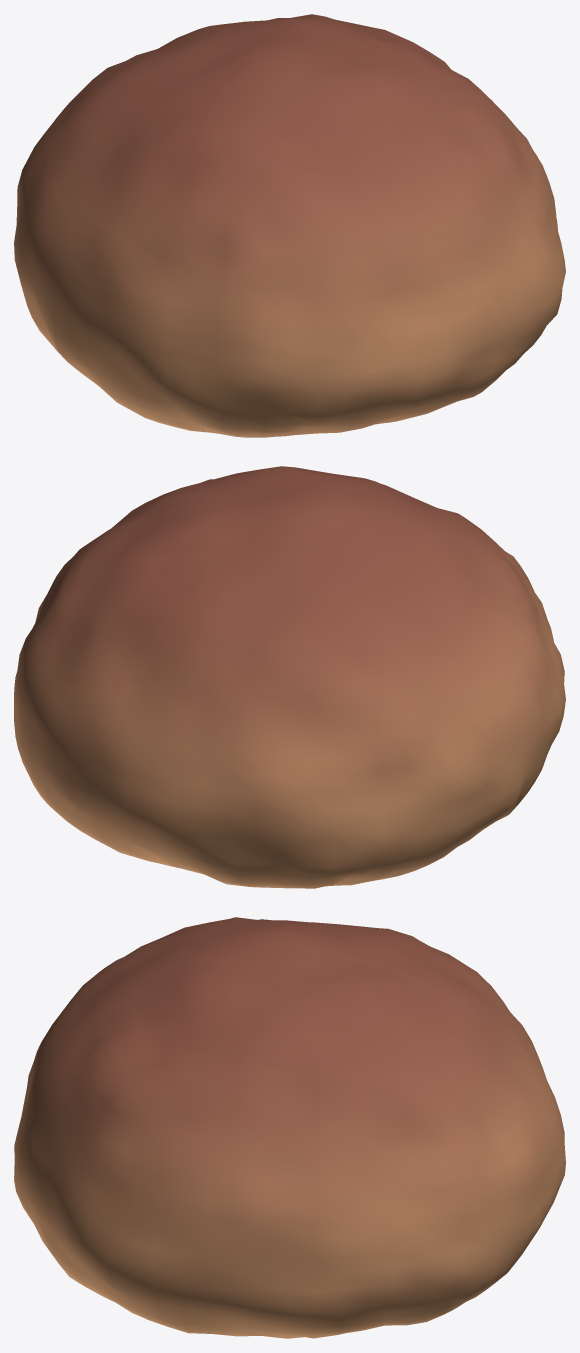
Rendered from nutribun.glb.
The picture shows the model from 3 angles, top to bottom: view 1: azimuth 30°, elevation 25°; view 2: azimuth 150°, elevation 25°; view 3: azimuth 270°, elevation 25°; orthographic projection.
Visible parts, largest first — view 1: Cube; view 2: Cube; view 3: Cube.
Boxes of the visible parts, x1=… form: Cube: x1=14, y1=14, x2=565, y2=437; Cube: x1=14, y1=466, x2=565, y2=888; Cube: x1=14, y1=917, x2=565, y2=1338.
Bounding box in the file's own units: 0.274 × 0.1883 × 0.2775.
1 material, 1 textured.
